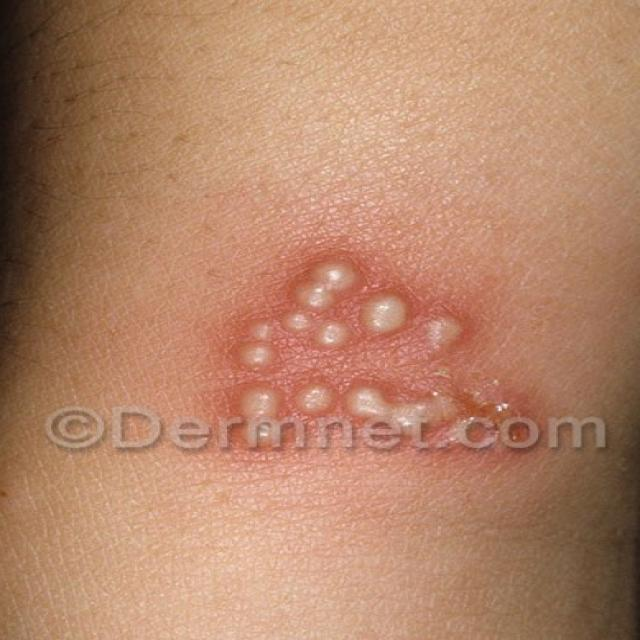Viral Infections: (186, 228, 558, 488)
